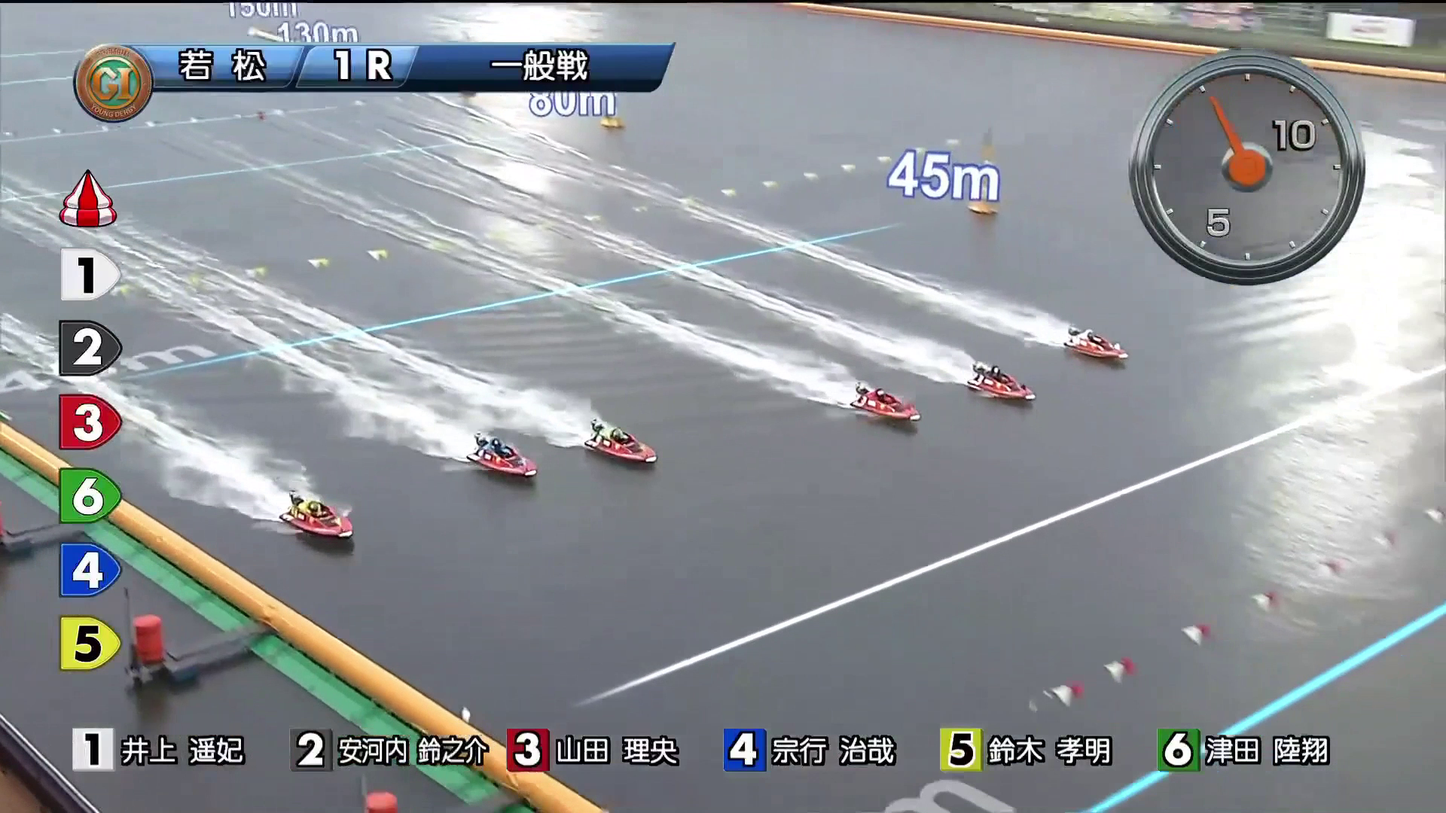１号艇: (1060, 319, 1120, 365)
２号艇: (968, 360, 1030, 398)
３号艇: (854, 381, 909, 422)
４号艇: (593, 421, 655, 464)
５号艇: (470, 444, 539, 482)
６号艇: (295, 506, 360, 553)
